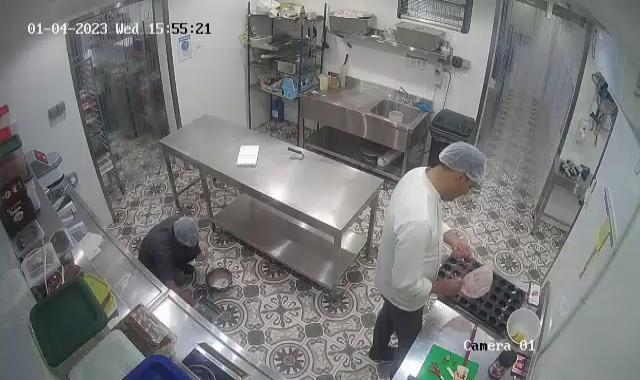hairnet: (436, 141, 487, 188)
